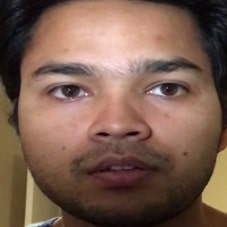awake: (28, 50, 210, 194)
